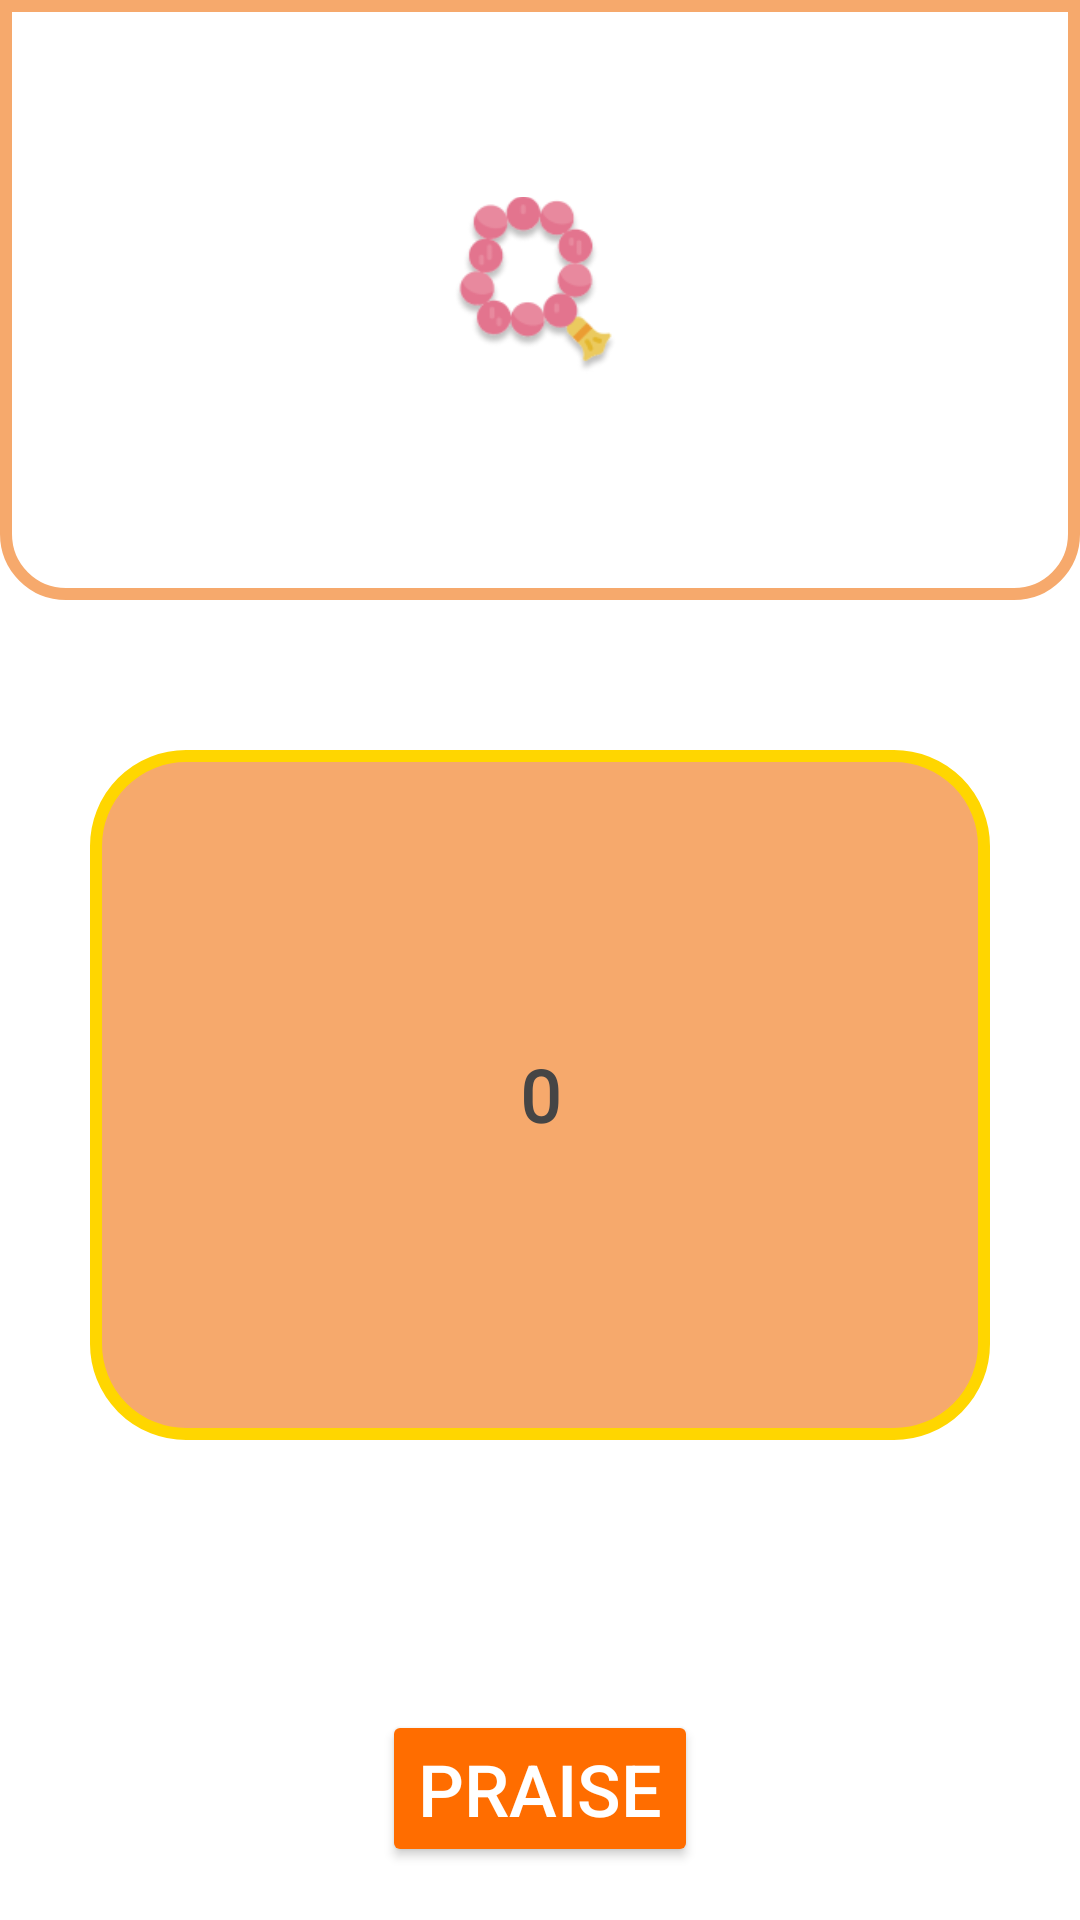

Named icons in this screenshot (1080w x 1920h) and their bounding boxes, {"x1": x1, "y1": y1, "x2": x2, "y2": y2}:
bead: {"x1": 459, "y1": 197, "x2": 612, "y2": 367}
